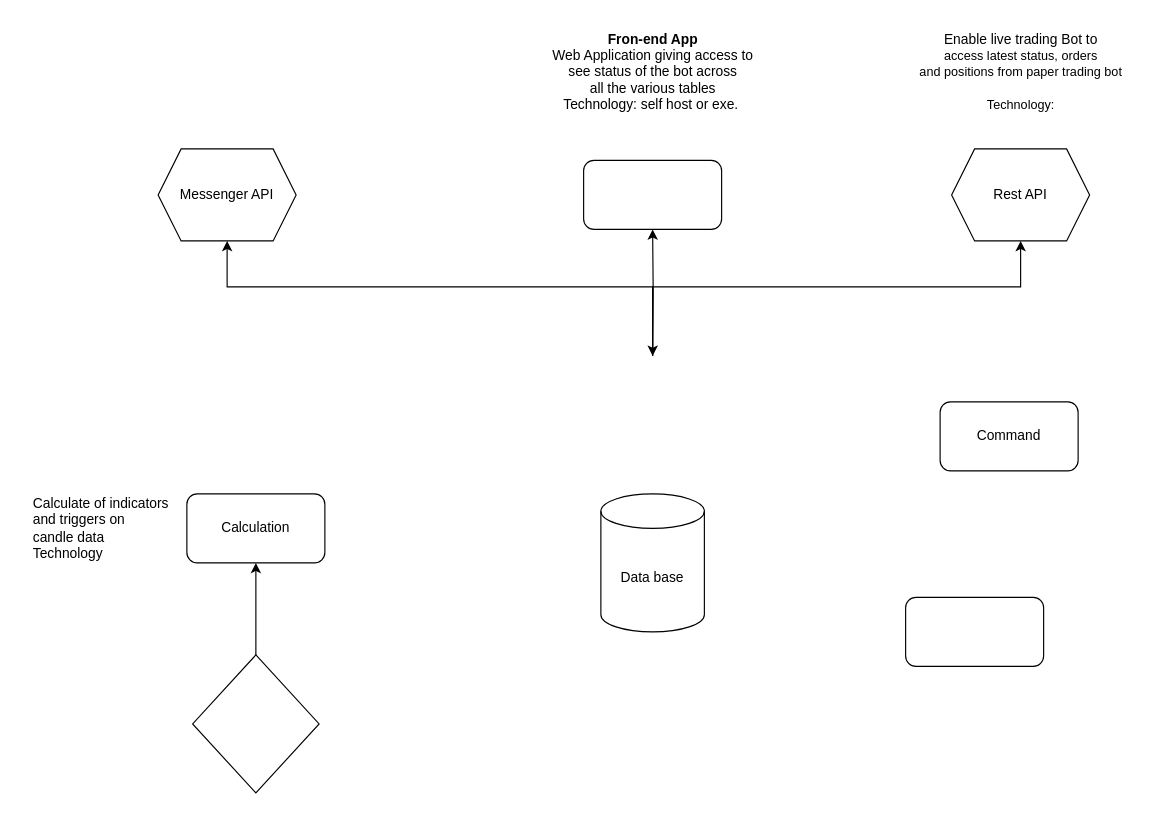
Image size: 1155x813. Some labels were removed from this diagram. Each missing label, with the centre of its shape:
"Market data API" goes at pixel 255 723.
"Web APP or GUI" goes at pixel 652 194.
